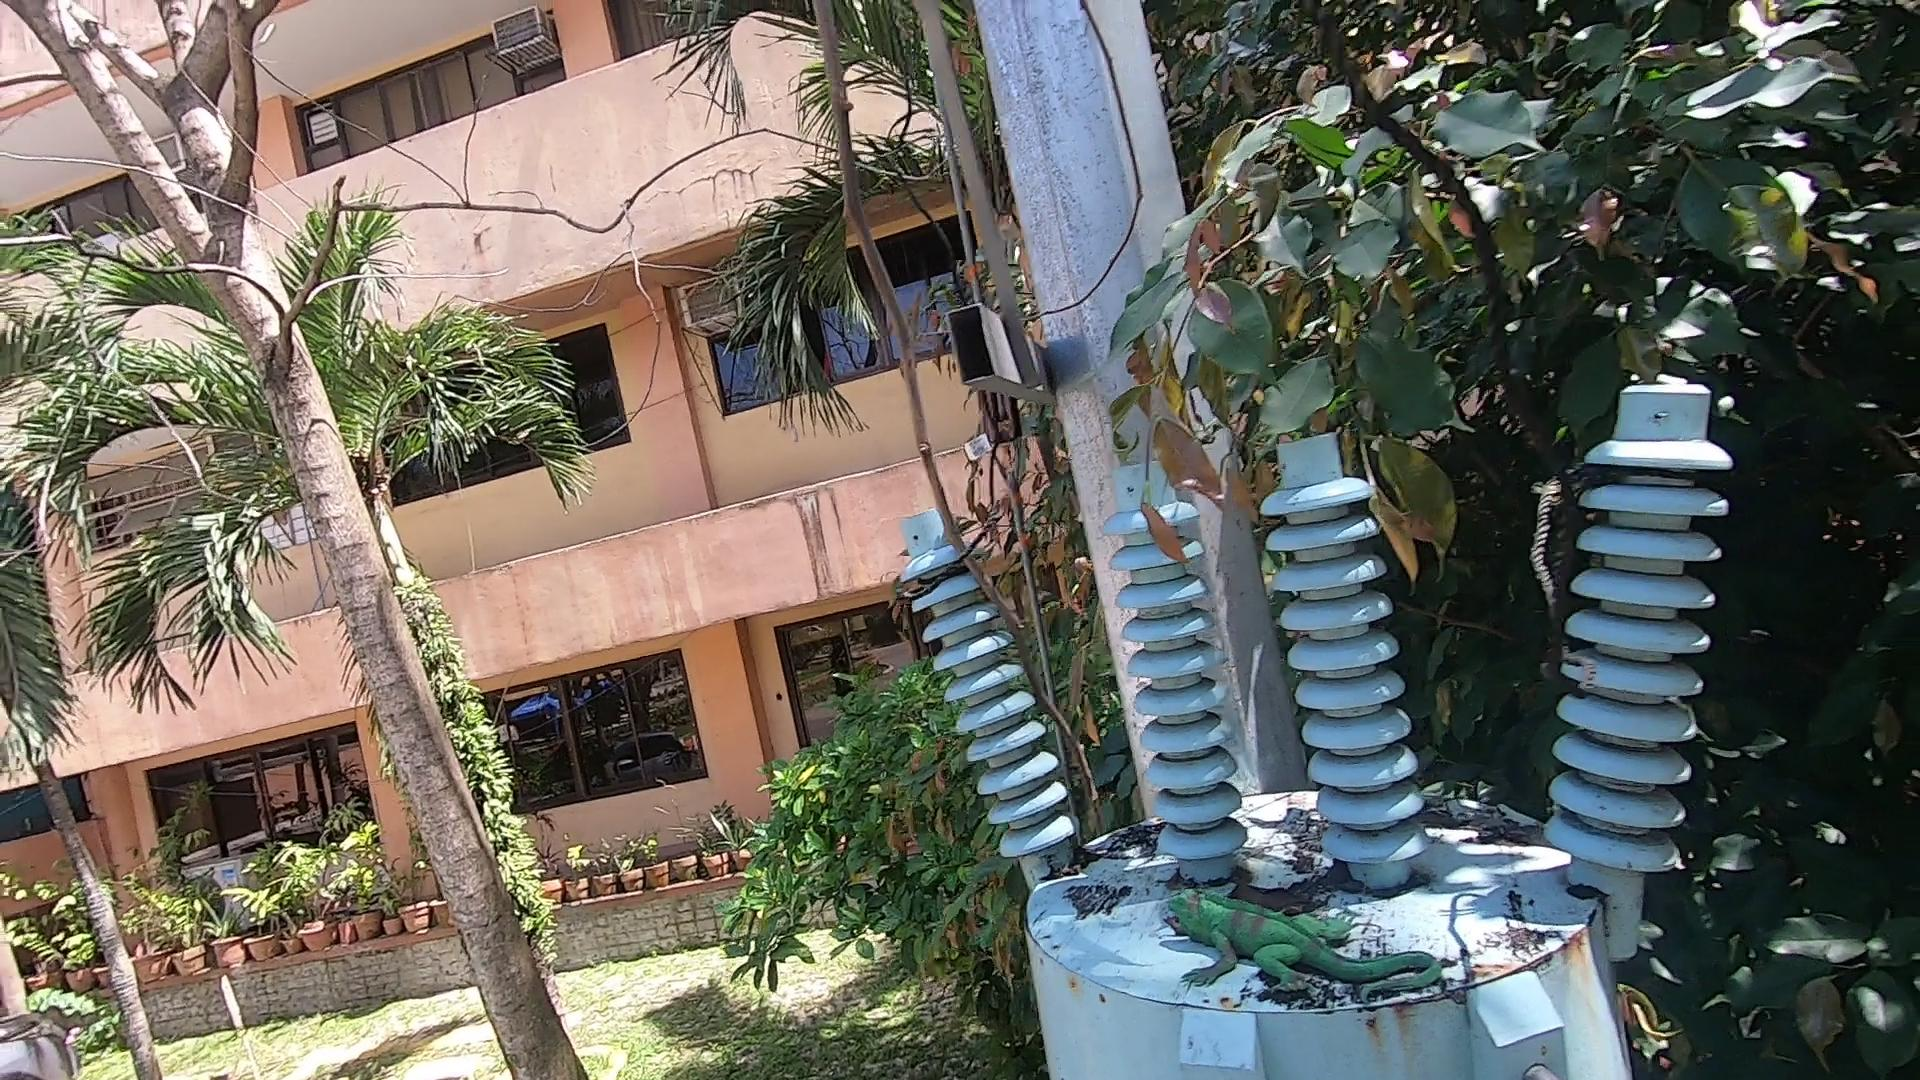branch with leaves: (1102, 169, 1497, 628)
leaf: (1433, 794, 1542, 857), (1240, 873, 1369, 910), (1048, 844, 1135, 880)
tree branch: (793, 12, 1117, 832)
